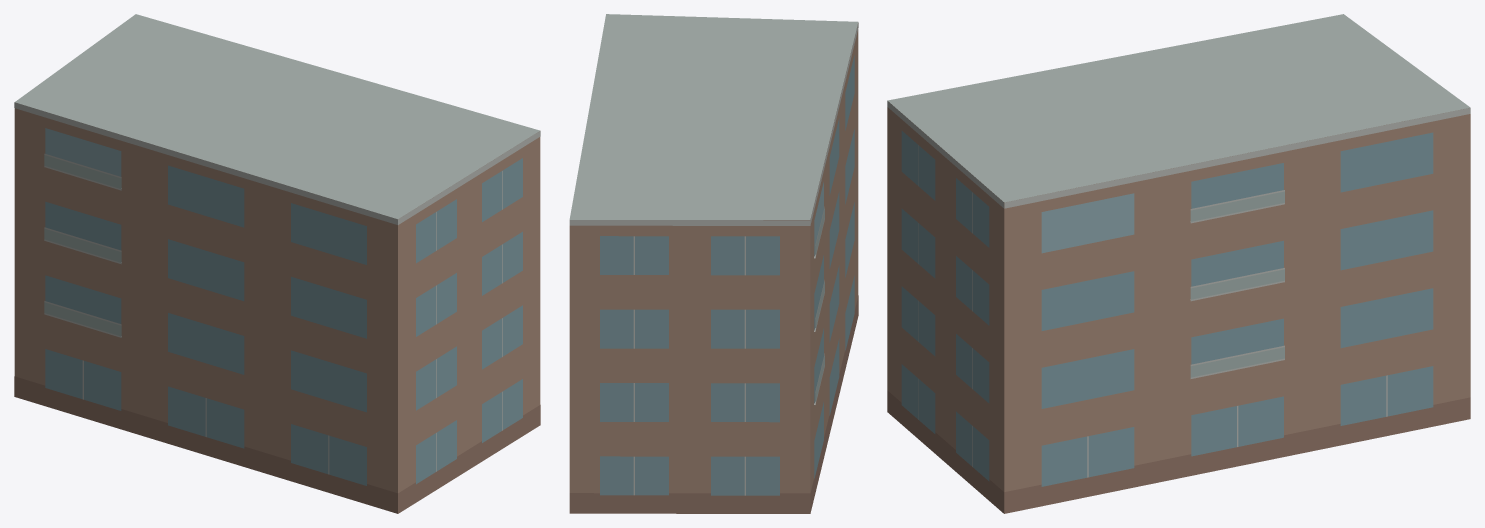
Rendered from survey-upis-32943585.glb.
3 renders of one model, left to right at view 1: azimuth 30°, elevation 25°; view 2: azimuth 150°, elevation 25°; view 3: azimuth 270°, elevation 25°, orthographic. The views are drawn at different scales.
Parts seen in each view (by area): view 1: survey-upis-32943585.tmp; view 2: survey-upis-32943585.tmp; view 3: survey-upis-32943585.tmp.
Boxes of the visible parts, left/top/right/bottom form: survey-upis-32943585.tmp: left=14, top=14, right=540, bottom=513; survey-upis-32943585.tmp: left=569, top=14, right=858, bottom=513; survey-upis-32943585.tmp: left=887, top=14, right=1470, bottom=513.
Size of the model in its own units: 15.84 by 12.2 by 20.72.
